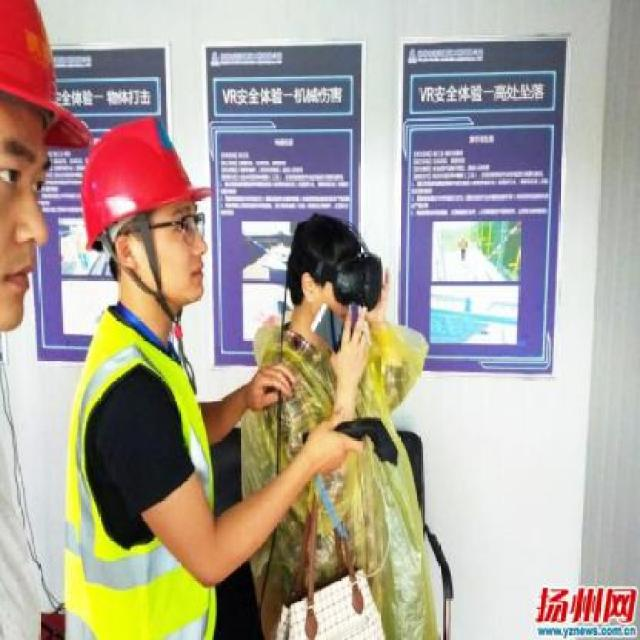Vest: (76, 317, 249, 626)
helmet: (1, 2, 98, 166), (82, 110, 208, 216)
person: (55, 98, 268, 640), (258, 187, 474, 616), (1, 0, 95, 640)
